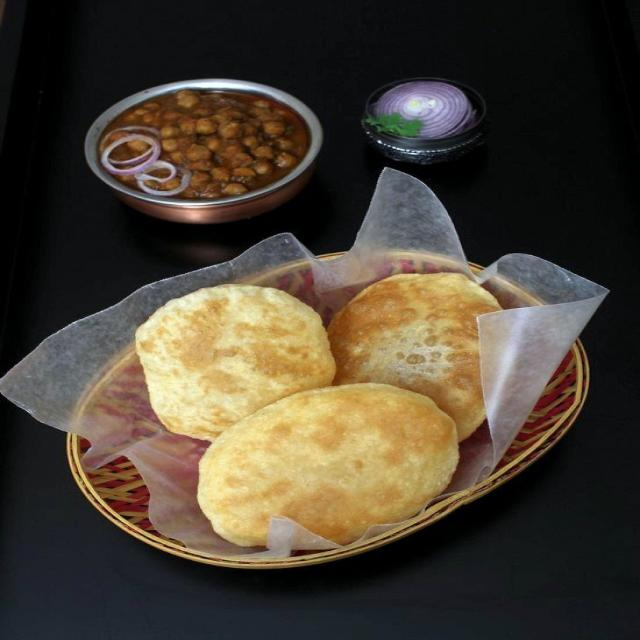puri: (199, 383, 457, 546), (136, 285, 334, 439), (328, 273, 500, 441)
